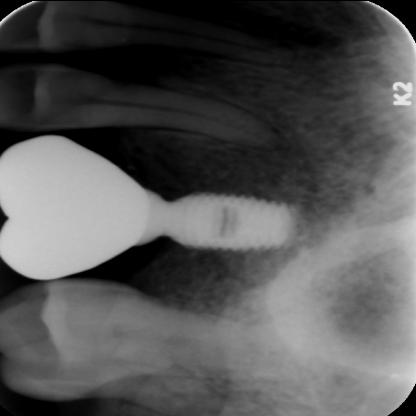Bicon: (157, 185, 306, 255)
